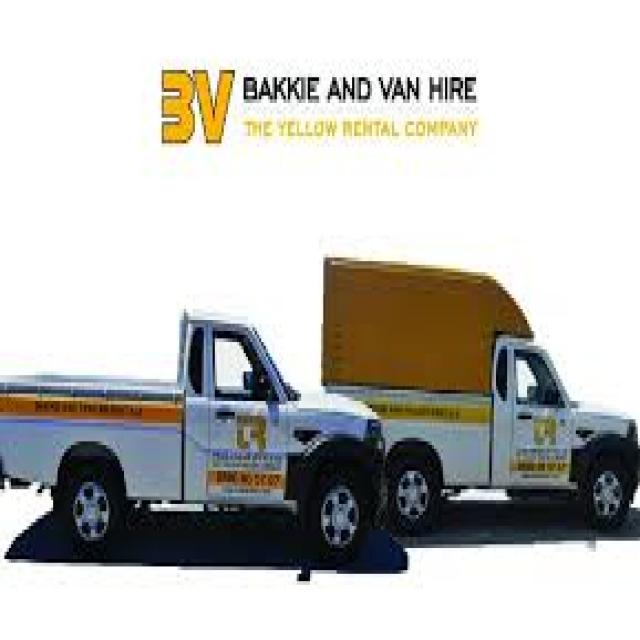Pickup Trucks: (2, 313, 390, 559)
